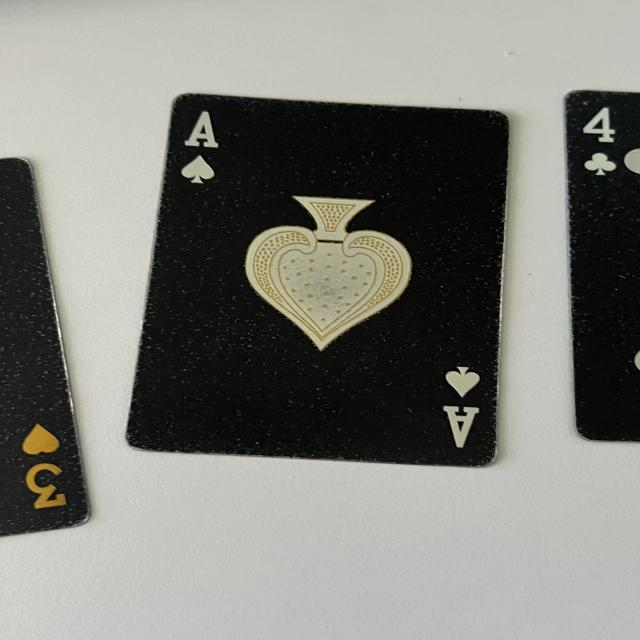3H: (18, 424, 75, 516)
4C: (577, 97, 622, 178)
AS: (440, 358, 484, 456), (179, 105, 226, 195)
